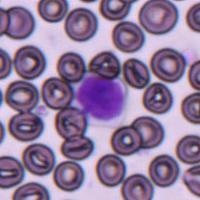L: (77, 76, 128, 123)
